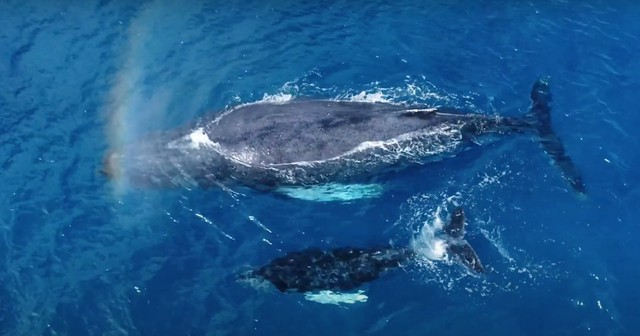whale: (92, 61, 597, 210), (229, 203, 499, 311)
